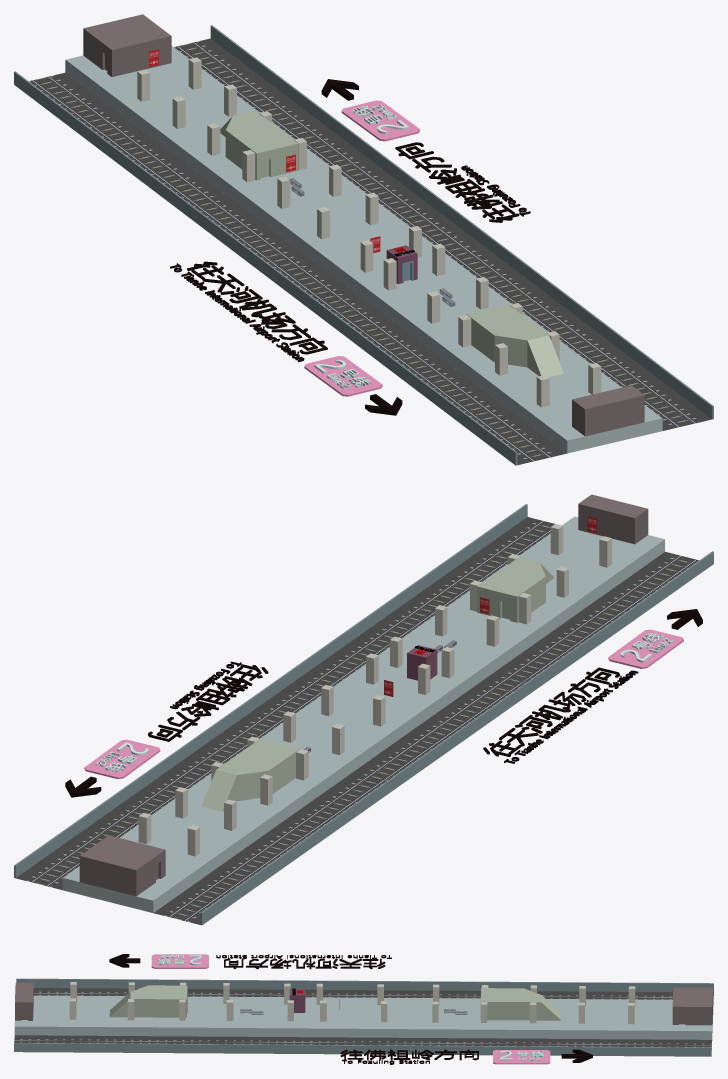
File: psop-whgj-wjdd-b2.ceffcac.glb
The picture shows the model from 3 angles, top to bottom: view 1: azimuth 30°, elevation 25°; view 2: azimuth 150°, elevation 25°; view 3: azimuth 270°, elevation 25°; orthographic projection. The views are drawn at different scales.
Parts seen in each view (by area): view 1: 轨道02, road-b2-2, 2号线天河机场方向, 墩柱103, Object060, b2_房间, Text010, Text011, Object013, Object010; view 2: road-b2-2, 轨道02, 2号线天河机场方向, 墩柱103, Object060, b2_房间, Text010, Text011, Object013, Object010, Box186; view 3: road-b2-2, 2号线天河机场方向, 轨道02, Object060, 墩柱103, b2_房间, Text010, Text011, Object010, Object013, Box186, Object009 (+1 smaller).
Boxes of the visible parts, x1=… form: 轨道02: x1=29, y1=38, x2=711, y2=465; road-b2-2: x1=65, y1=46, x2=662, y2=453; 2号线天河机场方向: x1=14, y1=25, x2=713, y2=465; 墩柱103: x1=137, y1=57, x2=601, y2=407; Object060: x1=220, y1=110, x2=563, y2=377; b2_房间: x1=83, y1=14, x2=644, y2=436; Text010: x1=170, y1=261, x2=402, y2=415; Text011: x1=321, y1=79, x2=530, y2=222; Object013: x1=341, y1=100, x2=419, y2=141; Object010: x1=304, y1=356, x2=382, y2=396; road-b2-2: x1=62, y1=516, x2=664, y2=912; 轨道02: x1=16, y1=517, x2=698, y2=924; 2号线天河机场方向: x1=14, y1=504, x2=713, y2=925; 墩柱103: x1=138, y1=524, x2=611, y2=856; Object060: x1=201, y1=557, x2=554, y2=811; b2_房间: x1=79, y1=494, x2=648, y2=896; Text010: x1=483, y1=609, x2=702, y2=763; Text011: x1=65, y1=661, x2=268, y2=797; Object013: x1=84, y1=739, x2=160, y2=779; Object010: x1=608, y1=629, x2=683, y2=668; Box186: x1=407, y1=645, x2=437, y2=680; road-b2-2: x1=14, y1=995, x2=713, y2=1039; 2号线天河机场方向: x1=14, y1=978, x2=713, y2=1056; 轨道02: x1=14, y1=988, x2=713, y2=1049; Object060: x1=109, y1=985, x2=561, y2=1020; 墩柱103: x1=69, y1=982, x2=635, y2=1024; b2_房间: x1=15, y1=983, x2=713, y2=1025; Text010: x1=109, y1=954, x2=391, y2=969; Text011: x1=340, y1=1049, x2=592, y2=1064; Object010: x1=151, y1=954, x2=208, y2=968; Object013: x1=493, y1=1050, x2=550, y2=1064; Box186: x1=289, y1=989, x2=305, y2=1012; Object009: x1=158, y1=955, x2=201, y2=965.
Size of the model in its own units: 40.42 by 4.66 by 109.
Materials: 15 (2 with a texture image).
